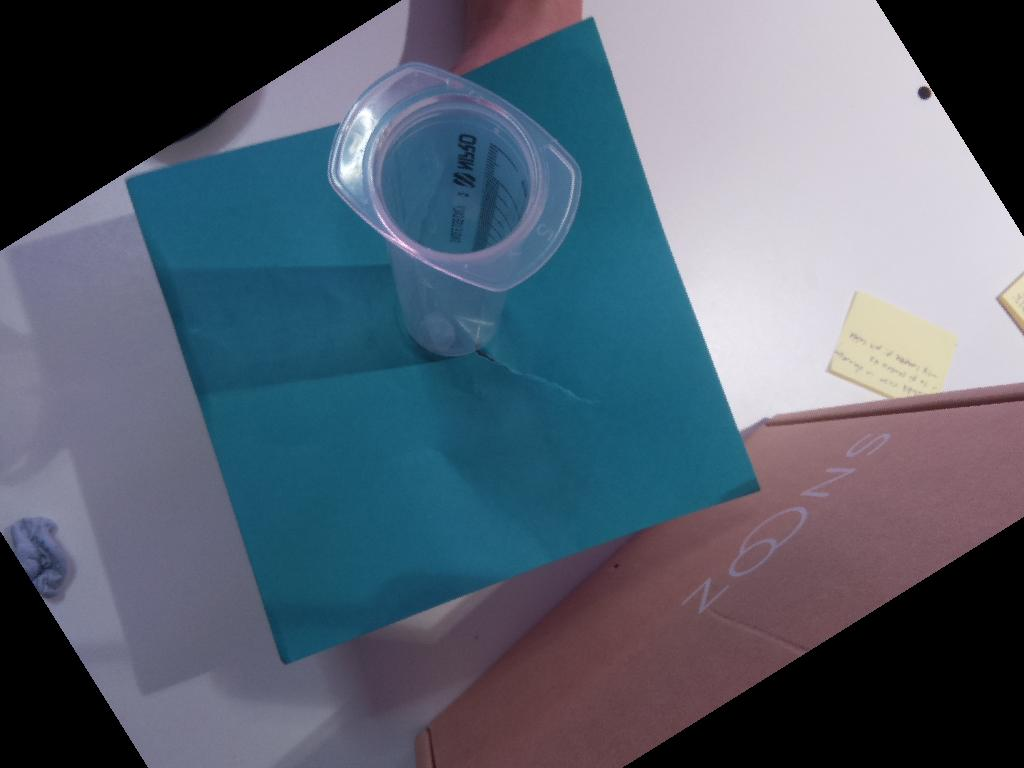clean: (325, 61, 584, 289)
